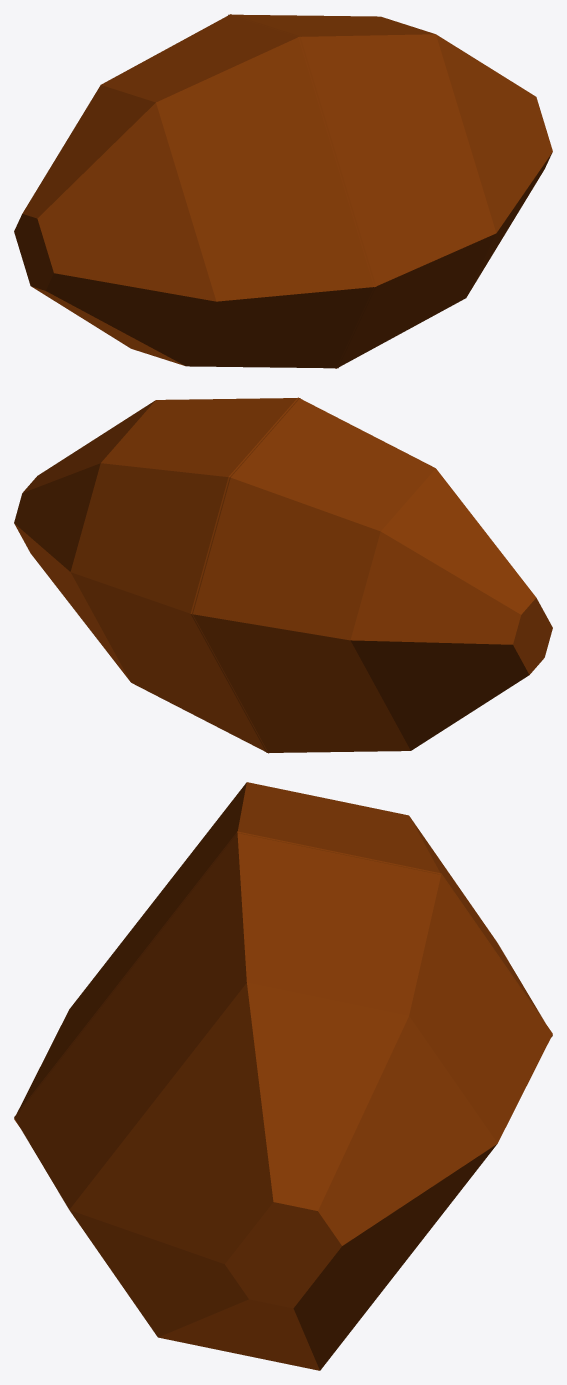
Rendered from item_biji_new.fbx.
3 views of the same model, one above another, from view 1: azimuth 30°, elevation 25°; view 2: azimuth 150°, elevation 25°; view 3: azimuth 270°, elevation 25° (orthographic). The views are drawn at different scales.
Visible parts, largest first — view 1: item_biji; view 2: item_biji; view 3: item_biji.
Boxes of the visible parts, x1,y1,x2,y2 form: item_biji: (14,14,552,368); item_biji: (14,397,552,753); item_biji: (14,782,552,1370).
Bounding box in the file's own units: 50.56 × 32.22 × 32.22.
